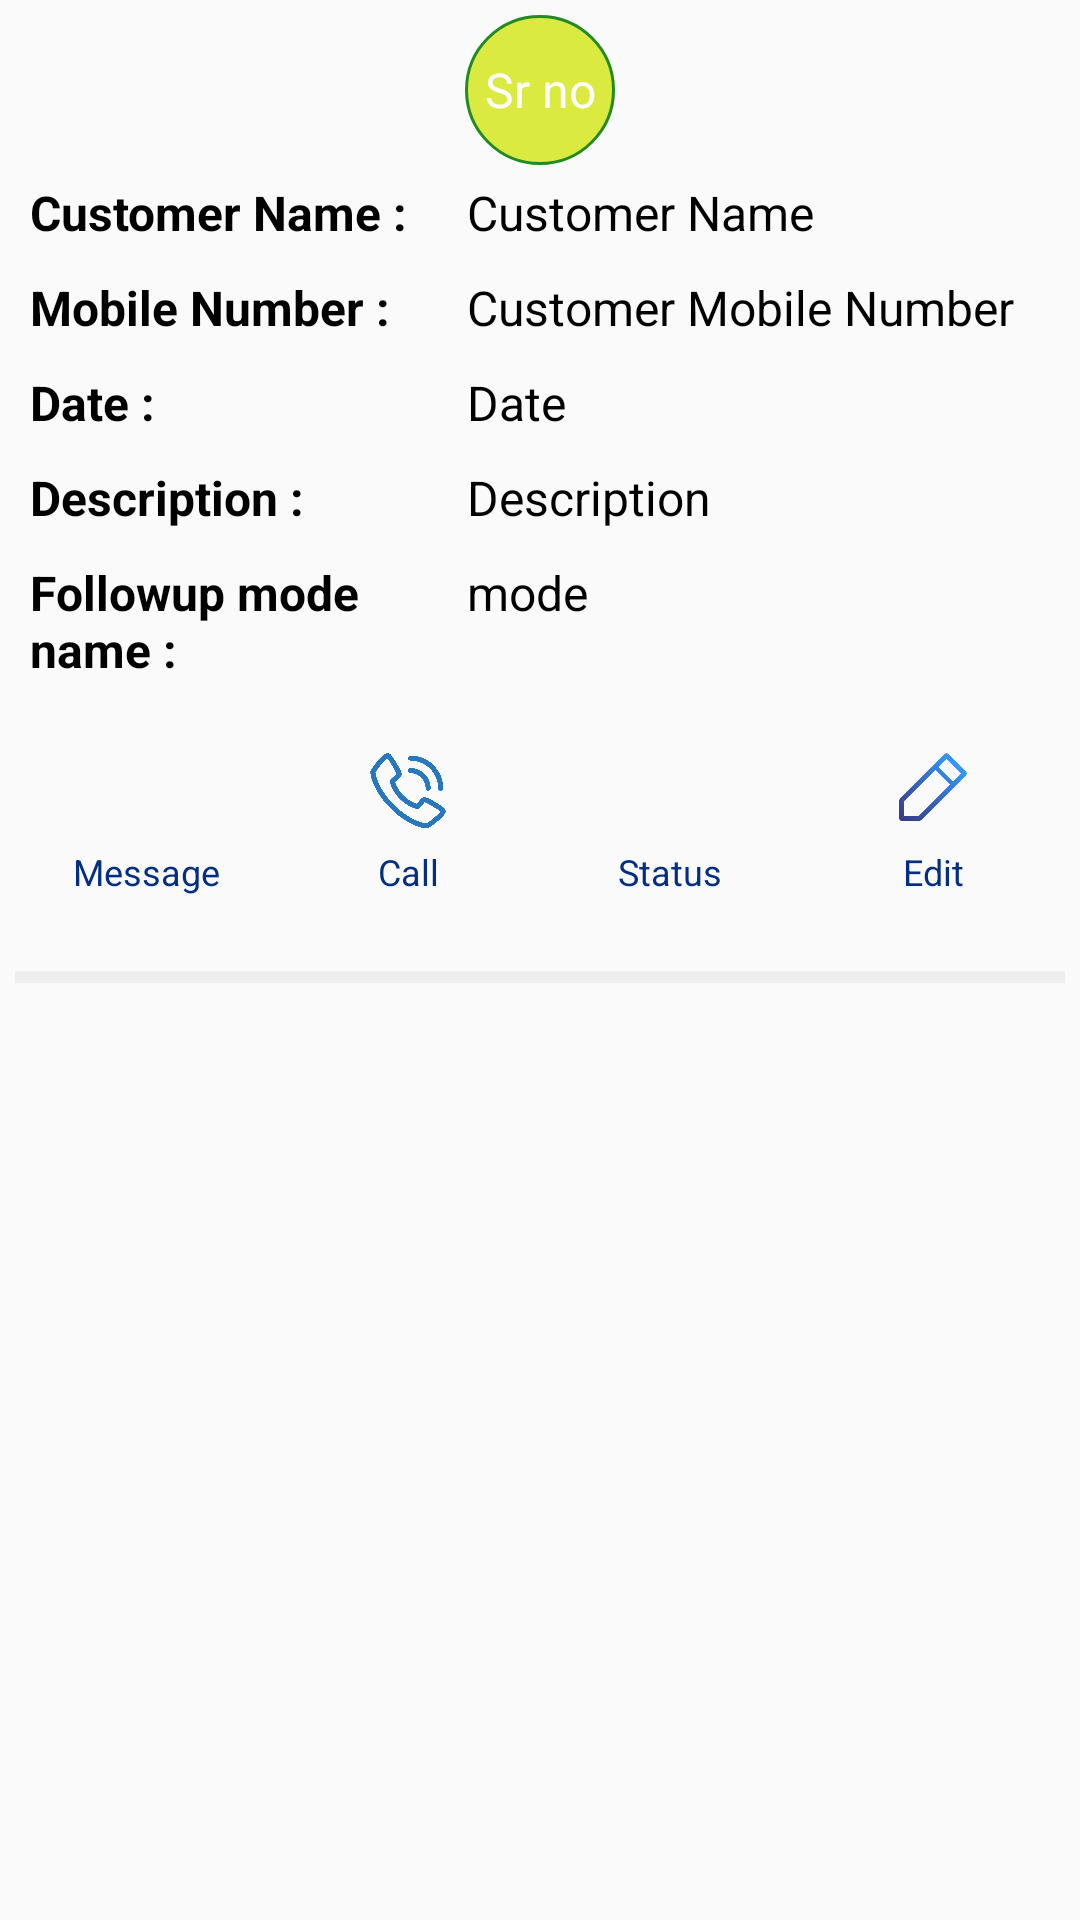

Icon click points for this 1080px×1920px phone screenshot, format point (x, y):
create: point (933, 787)
